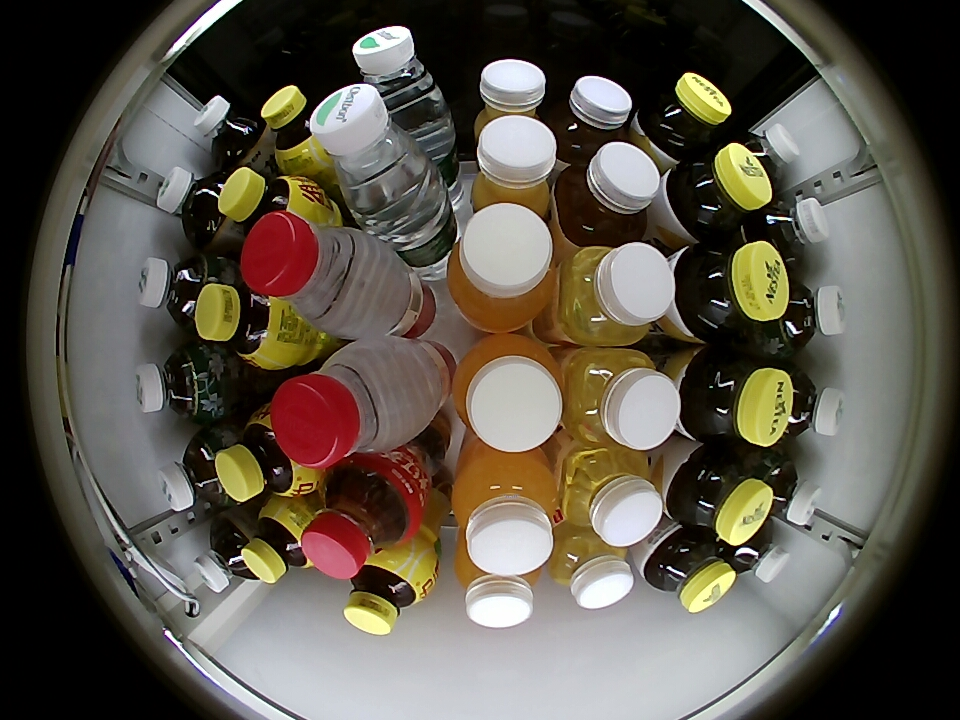binghongcha: (300, 458, 423, 580)
chacui: (674, 240, 789, 342), (678, 347, 791, 447), (667, 446, 772, 545), (666, 144, 770, 241), (637, 73, 731, 162), (644, 528, 735, 613)
chapai: (553, 142, 661, 246), (550, 76, 633, 161)
chapai2: (557, 242, 675, 346), (562, 347, 679, 451), (559, 446, 663, 547), (547, 526, 634, 610)
damaicha: (157, 167, 232, 246), (194, 95, 265, 165), (194, 518, 257, 593)
moliqingcha: (134, 345, 221, 421), (138, 254, 222, 332), (158, 428, 233, 514), (768, 279, 847, 354), (772, 365, 845, 443), (758, 452, 822, 527)
nfc: (470, 113, 558, 220), (474, 59, 548, 132)
nongfushanquan: (270, 339, 431, 469), (240, 210, 405, 336)
weic: (445, 204, 557, 332), (452, 449, 560, 576), (452, 335, 564, 453), (455, 544, 542, 628)
weitaningmeng-bottle: (194, 278, 296, 369), (215, 410, 313, 502), (344, 552, 433, 636), (218, 167, 316, 242), (243, 497, 318, 584), (261, 85, 333, 171)
wulongcha: (757, 195, 829, 263), (735, 123, 800, 187), (726, 521, 789, 583)
yibao: (311, 84, 434, 227), (351, 27, 447, 124)
